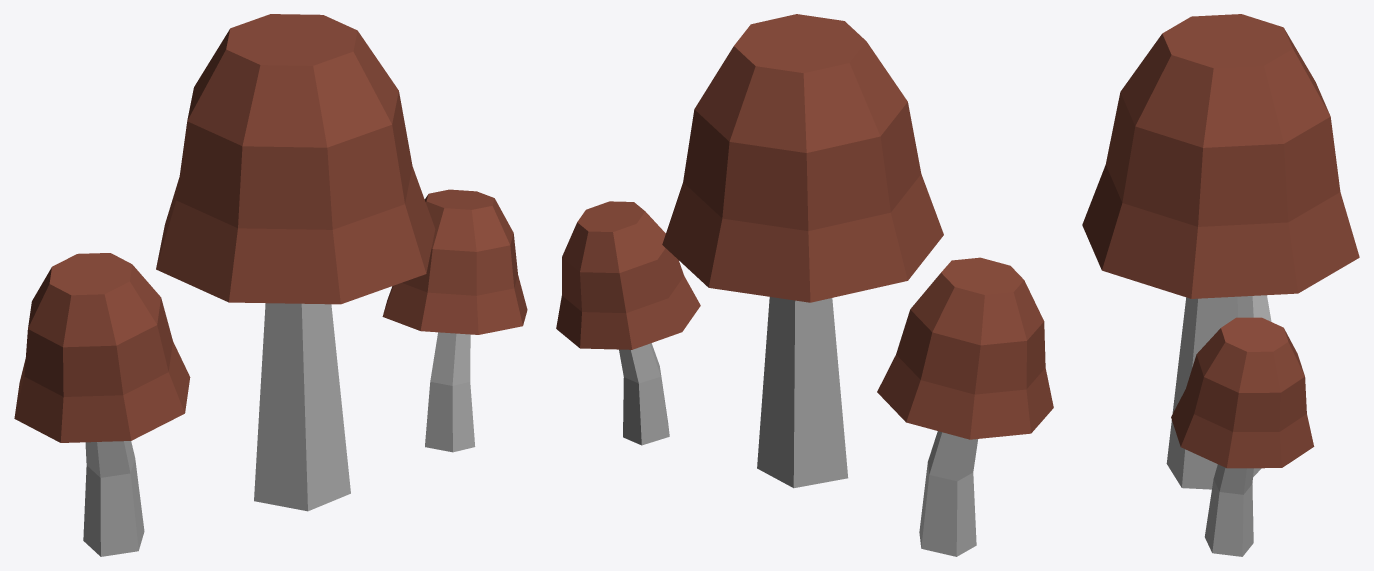
Rendered from Mushroom_04.fbx.
The picture shows the model from 3 angles, left to right: view 1: azimuth 30°, elevation 25°; view 2: azimuth 150°, elevation 25°; view 3: azimuth 270°, elevation 25°; orthographic projection. The views are drawn at different scales.
Parts seen in each view (by area): view 1: Mushroom_04; view 2: Mushroom_04; view 3: Mushroom_04.
Part boxes in pixels (x1,y1,x2,y2): Mushroom_04: (14, 14, 527, 556); Mushroom_04: (556, 14, 1053, 556); Mushroom_04: (1082, 14, 1359, 556).
Bounding box in the file's own units: 109 × 100 × 54.73.
